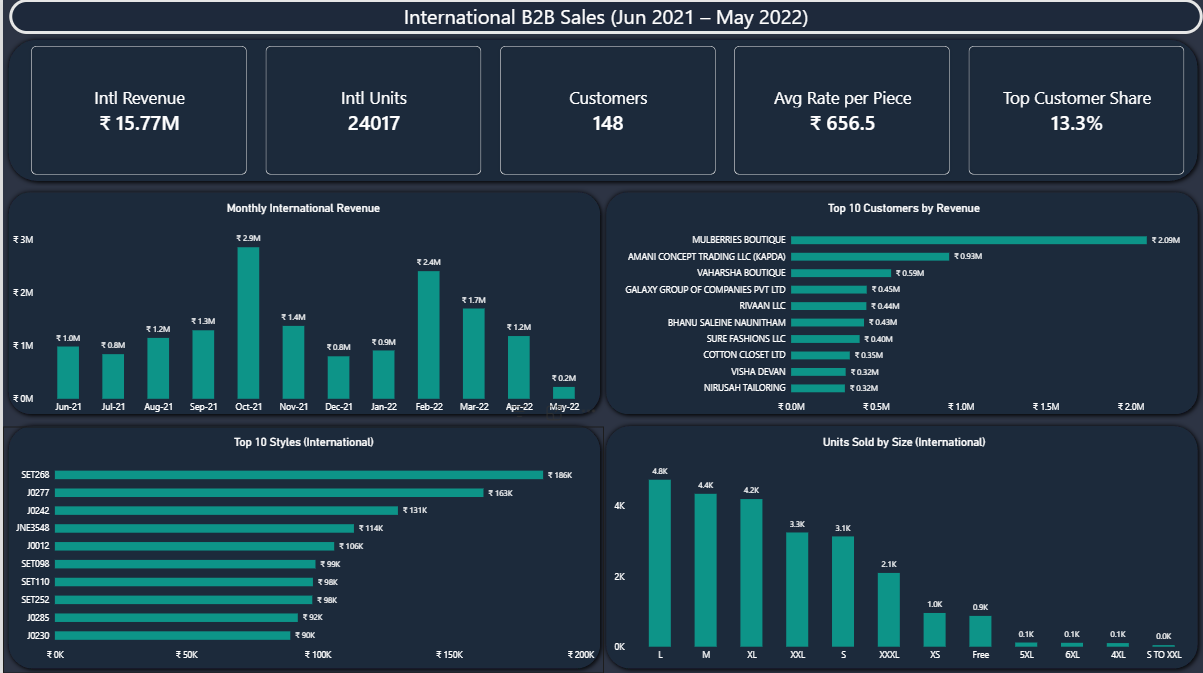

The dashboard page shown, as its layout file describes it:
{"tool":"powerbi","page":{"name":"International B2B","canvas":[1920,1080],"ordinal":4},"visuals":[{"type":"shape","box":[0,55.8,1920.4,244.2],"z":0,"group":"g1"},{"type":"group","id":"g1","title":"Group 1","box":[0,55.8,1920.4,1023.8],"z":500},{"type":"shape","box":[0,300,964.5,373.3],"z":1000,"group":"g1"},{"type":"shape","box":[955.8,300,964.5,373.3],"z":2000,"group":"g1"},{"type":"shape","box":[0,673.2,964.5,406.4],"z":3000,"group":"g1"},{"type":"cardVisual","fields":{"Data":["_Measures.Intl Revenue","_Measures.Intl Units","_Measures.Customers","_Measures.Avg Rate per Piece","_Measures.Top Customer Share"]},"box":[34,64,1868,228],"z":4000},{"type":"shape","box":[955.1,673.1,964.5,406.4],"z":4000,"group":"g1"},{"type":"columnChart","title":"Monthly International Revenue","fields":{"Category":["Dim_Date.Month Year"],"Y":["_Measures.Intl Revenue"]},"box":[0,310.5,961,373.3],"z":5000},{"type":"barChart","title":"Top 10 Customers by Revenue","fields":{"Category":["Intl_Sales.CUSTOMER"],"Y":["_Measures.Intl Revenue"]},"box":[961,310,959,373],"z":6000},{"type":"barChart","title":"Top 10 Styles (International)","fields":{"Category":["Dim_Product.Style"],"Y":["_Measures.Intl Revenue"]},"box":[0,684,962,396],"z":7000},{"type":"columnChart","title":"Units Sold by Size (International)","fields":{"Category":["Intl_Sales.Size"],"Y":["_Measures.Intl Units"]},"box":[961,683.7,959.3,395.9],"z":8000},{"type":"textbox","box":[10.1,0,1909.9,55.8],"z":9000}]}

Visuals, with their boxes in screenshot pixels (x1, y1, x2, y2), scaled from the page's 1920x1080 canvas onto the 1203x673 screenshot:
shape: (x1=0, y1=35, x2=1202, y2=187)
"Group 1" group: (x1=0, y1=35, x2=1202, y2=672)
shape: (x1=0, y1=187, x2=604, y2=420)
shape: (x1=599, y1=187, x2=1202, y2=420)
shape: (x1=0, y1=420, x2=604, y2=672)
cardVisual - _Measures.Intl Revenue x _Measures.Intl Units: (x1=21, y1=40, x2=1192, y2=182)
shape: (x1=598, y1=419, x2=1202, y2=672)
"Monthly International Revenue" columnChart: (x1=0, y1=193, x2=602, y2=426)
"Top 10 Customers by Revenue" barChart: (x1=602, y1=193, x2=1202, y2=426)
"Top 10 Styles (International)" barChart: (x1=0, y1=426, x2=603, y2=672)
"Units Sold by Size (International)" columnChart: (x1=602, y1=426, x2=1202, y2=672)
textbox: (x1=6, y1=0, x2=1202, y2=35)
